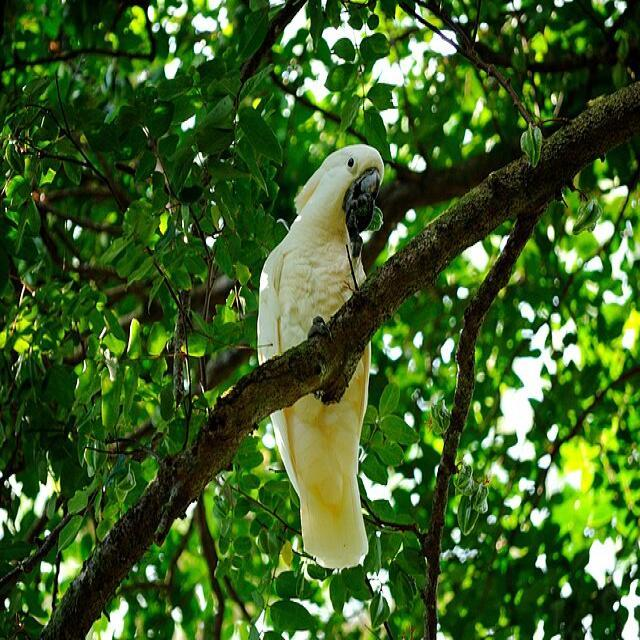Kakatua Putih: (234, 135, 406, 593)
